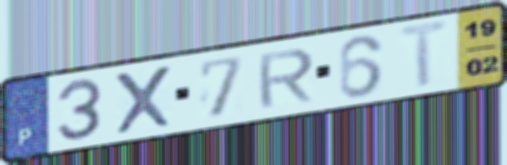3: (54, 75, 104, 144)
6: (336, 32, 386, 102)
7: (196, 53, 246, 120)
R: (255, 46, 318, 112)
T: (395, 17, 455, 93)
X: (110, 62, 176, 138)
